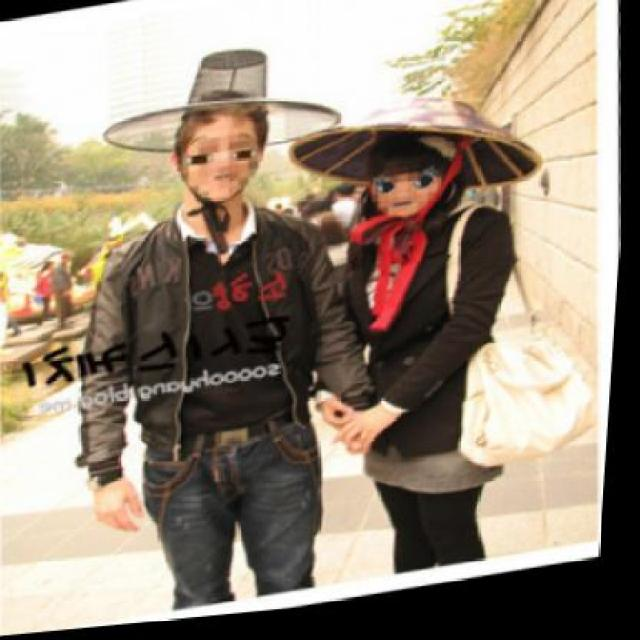hat: (105, 54, 342, 156), (292, 106, 545, 200)
